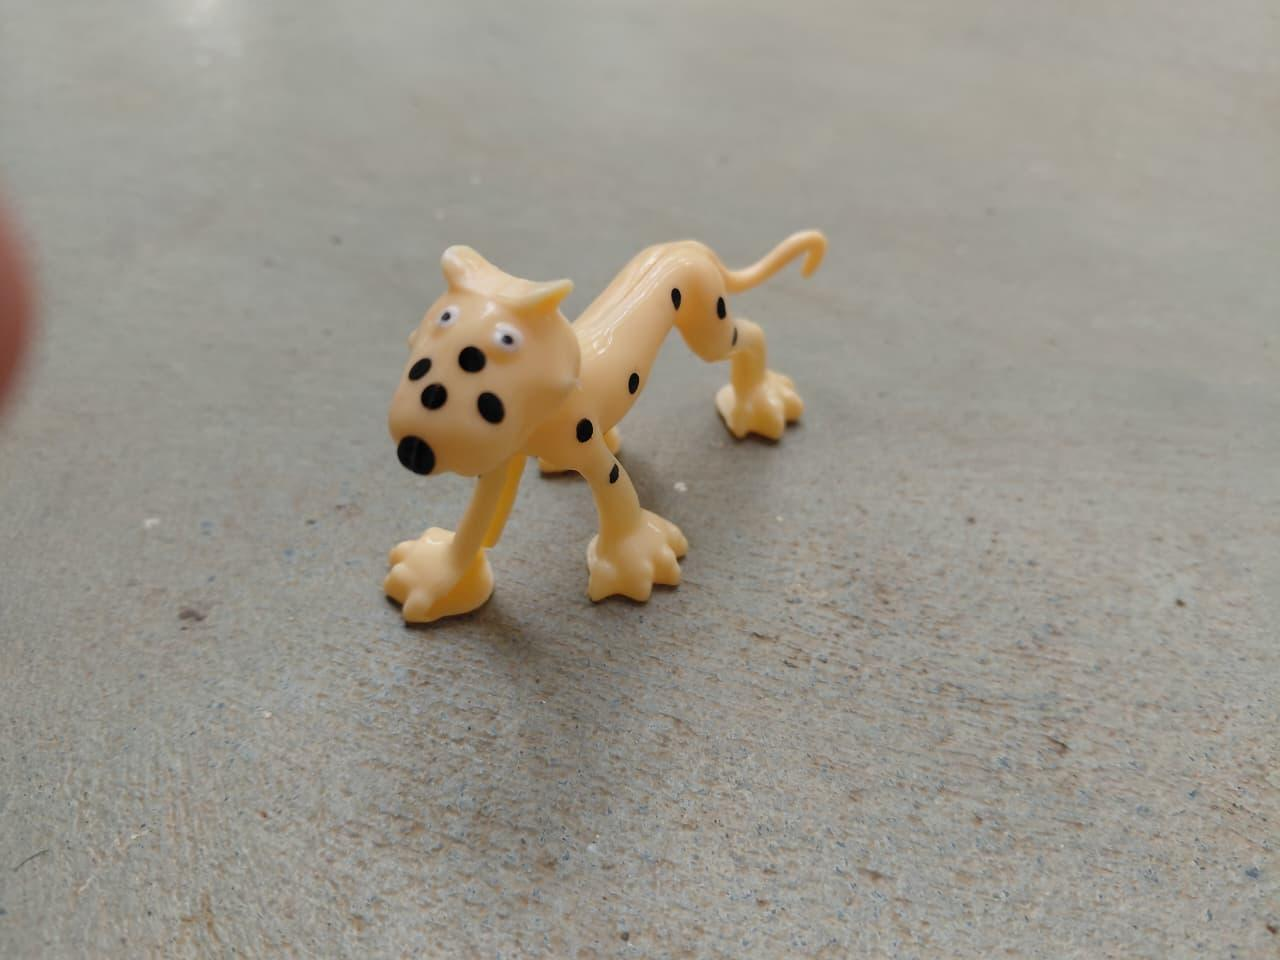cheetah: (370, 209, 839, 623)
